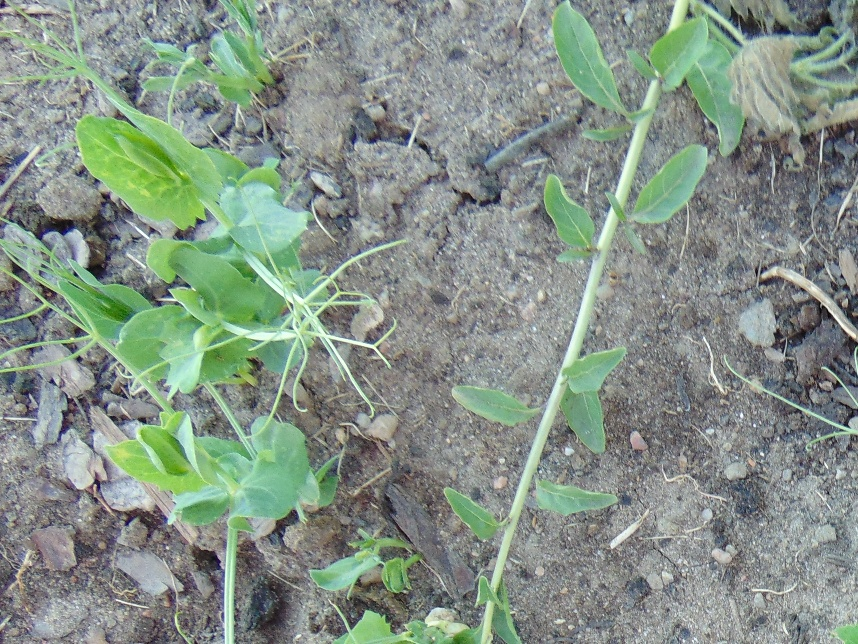crop: (5, 5, 389, 417), (117, 412, 354, 644), (310, 528, 427, 597), (330, 599, 439, 644)
weed: (544, 1, 749, 156), (539, 148, 710, 267), (450, 331, 621, 450), (447, 480, 618, 539), (444, 577, 519, 644)
